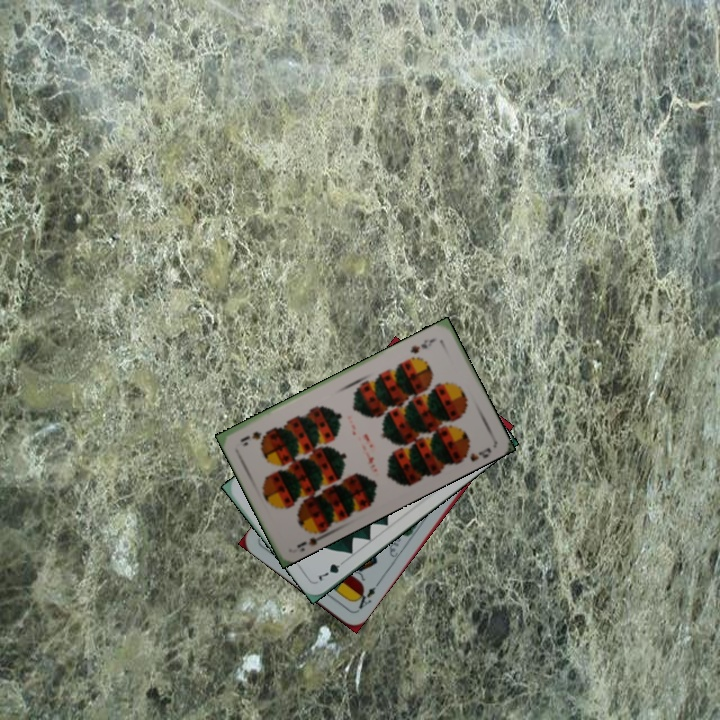EA: (351, 579, 381, 614)
G7: (314, 555, 349, 586)
S9: (293, 523, 329, 551), (406, 334, 439, 356)
